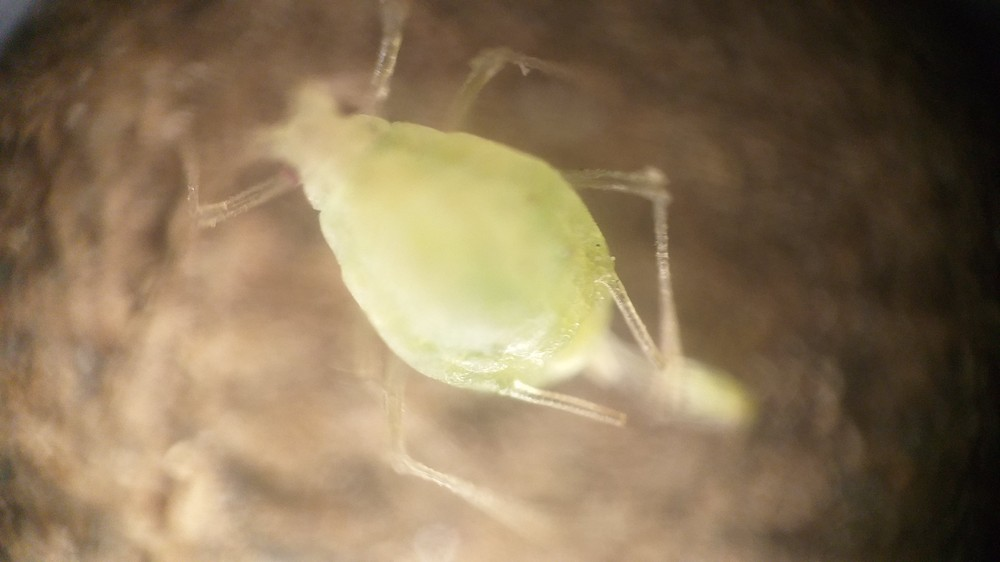Pulgon: (179, 29, 797, 512)
